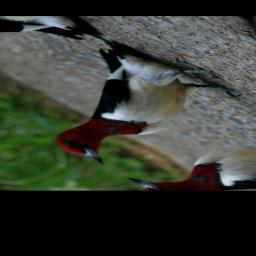Woodpecker: (0, 27, 256, 171)
